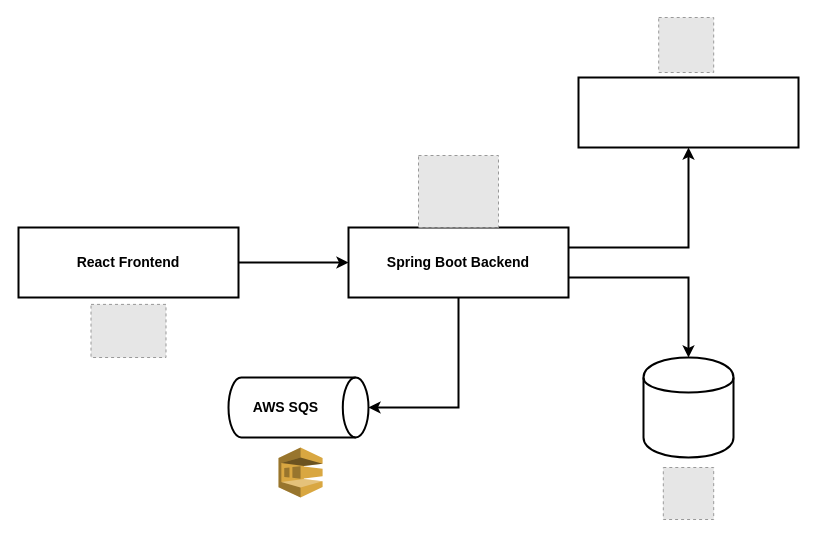
Image size: 816x537. Some labels were removed from this diagram. Grey dashed boxes stand in for pictures. The shapes that lost their labels are listed below. From the top down, each one's centre as x and y in pixels, then its label:
[688,112]: Public Book API
[688,407]: Database
